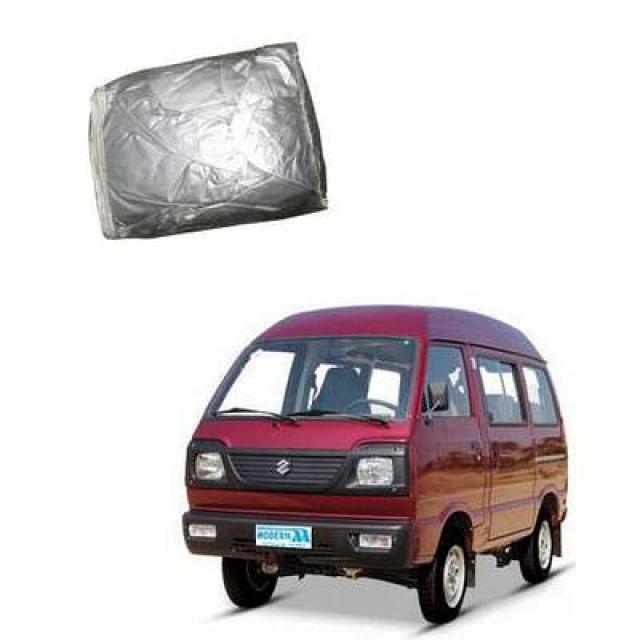Van: (179, 304, 570, 624)
